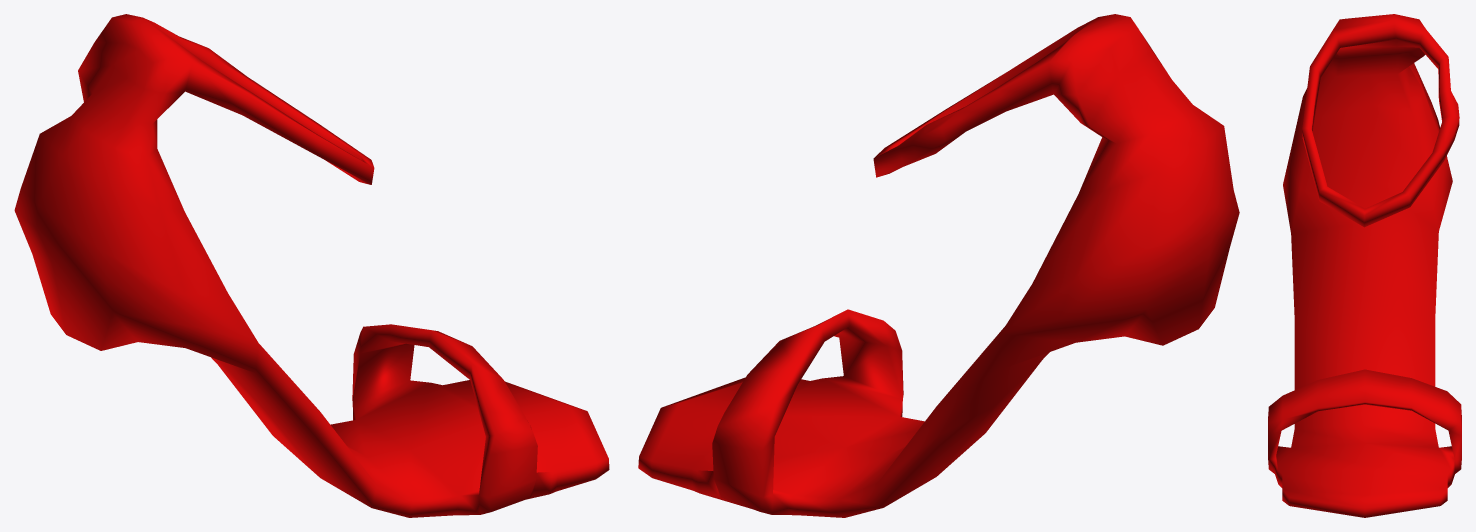
File: ayakkabi2.fbx
The picture shows the model from 3 angles, left to right: view 1: azimuth 30°, elevation 25°; view 2: azimuth 150°, elevation 25°; view 3: azimuth 270°, elevation 25°; orthographic projection. The views are drawn at different scales.
Parts seen in each view (by area): view 1: Plane.003; view 2: Plane.003; view 3: Plane.003.
Boxes of the visible parts, bbox=[...] form: Plane.003: bbox=[14, 14, 609, 517]; Plane.003: bbox=[638, 14, 1239, 517]; Plane.003: bbox=[1268, 14, 1461, 517].
Size of the model in its own units: 368 by 328 by 159.
